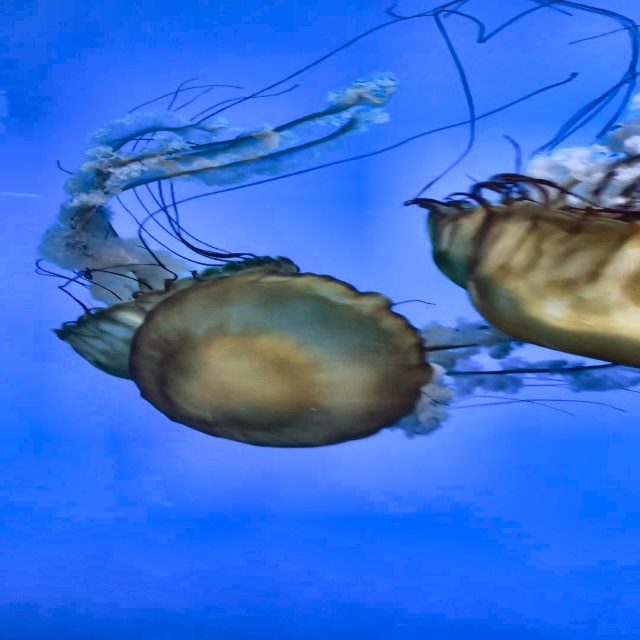jellyfish: (131, 257, 433, 450), (427, 202, 639, 370), (57, 260, 297, 382)
